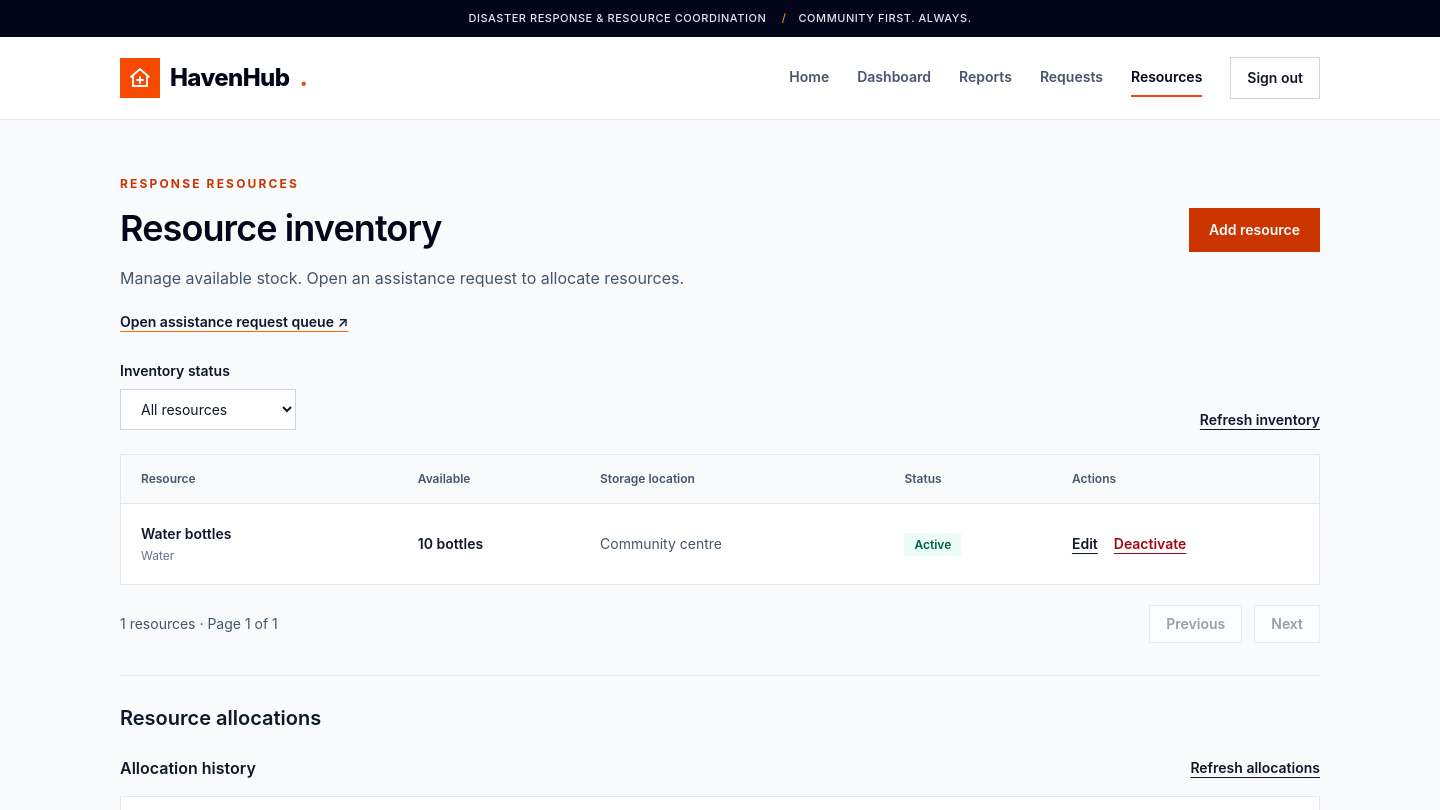
Scenario: deactivation retains the resource and removes edit and allocation availability
Click the button with aria-label "Deactivate Water bottles". click: (1150, 544)
box: top-left (1114, 534), bottom-right (1186, 554)
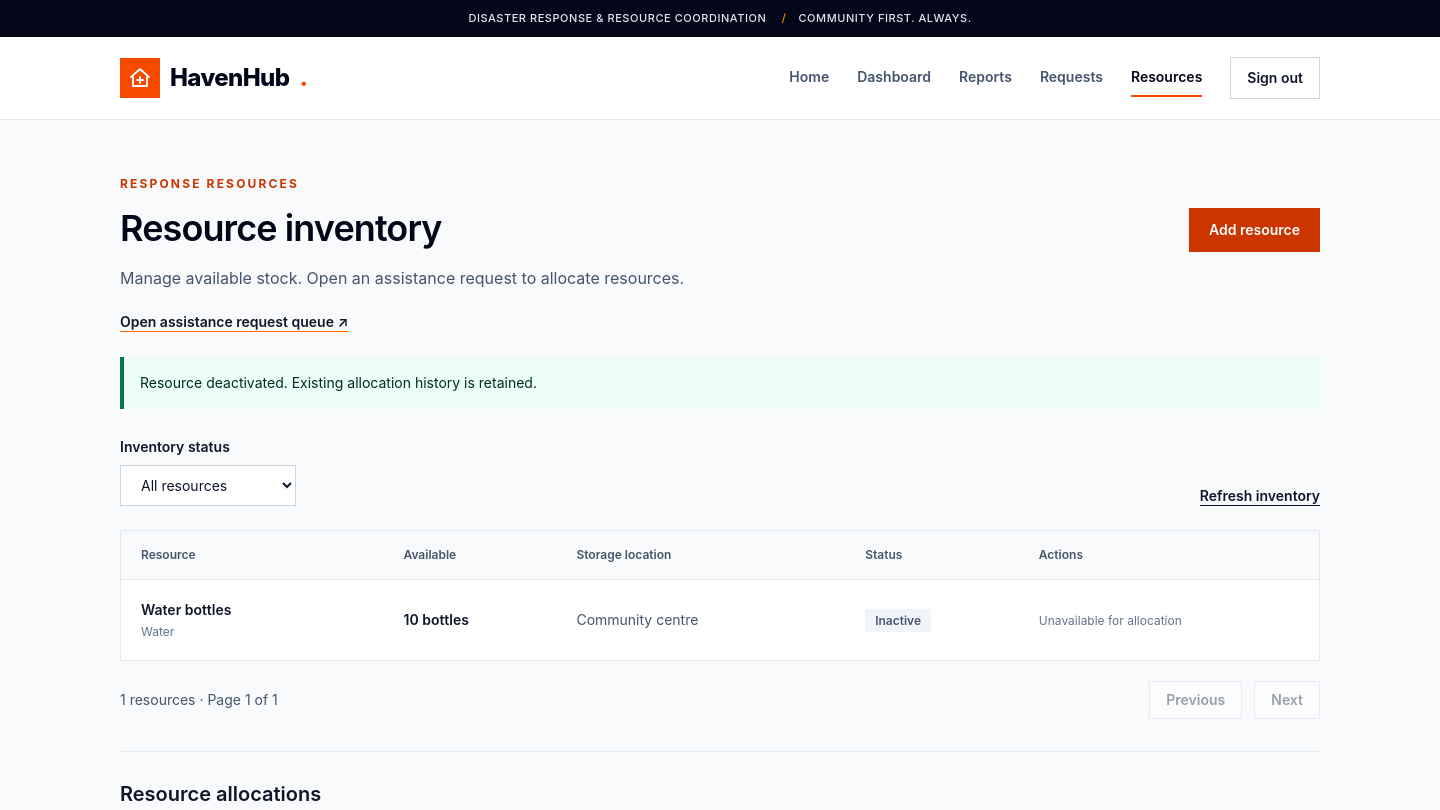
Now the text "Inactive" is shown, box top-left (865, 608), bottom-right (931, 632)
Now the text "Unavailable for allocation" is shown, box top-left (1039, 612), bottom-right (1182, 628)
